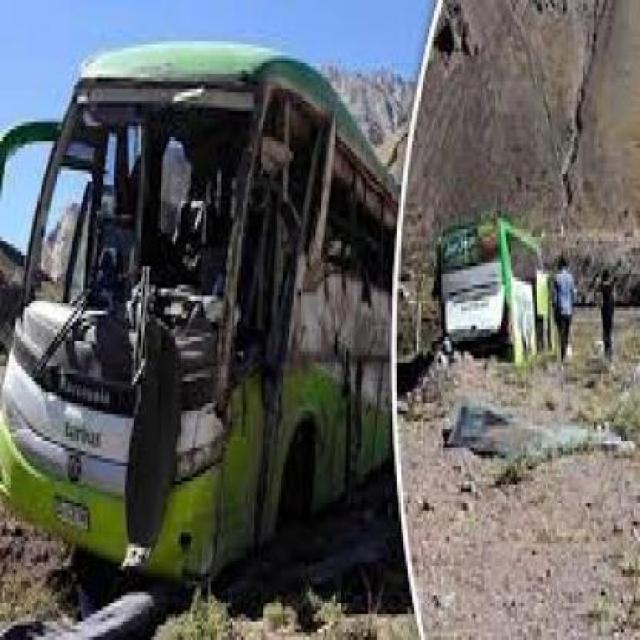accident: (14, 37, 368, 583)
